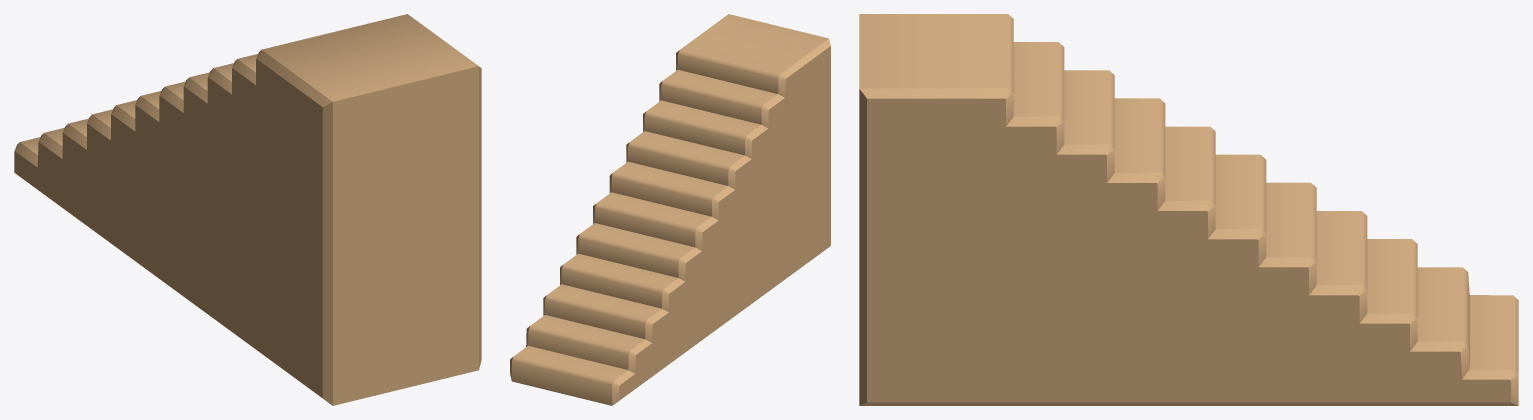
File: Stairs01.fbx
3 renders of one model, left to right at view 1: azimuth 30°, elevation 25°; view 2: azimuth 150°, elevation 25°; view 3: azimuth 270°, elevation 25°, orthographic. The views are drawn at different scales.
Parts seen in each view (by area): view 1: Stairs01; view 2: Stairs01; view 3: Stairs01.
Part boxes in pixels (<box>): Stairs01: <box>14,14,481,405</box>; Stairs01: <box>510,14,830,405</box>; Stairs01: <box>859,14,1518,405</box>.
Bounding box in the file's own units: 1.42 × 4.89 × 2.6.
